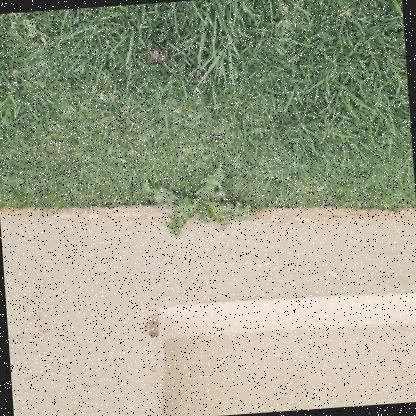Weeds: (140, 160, 257, 240)
